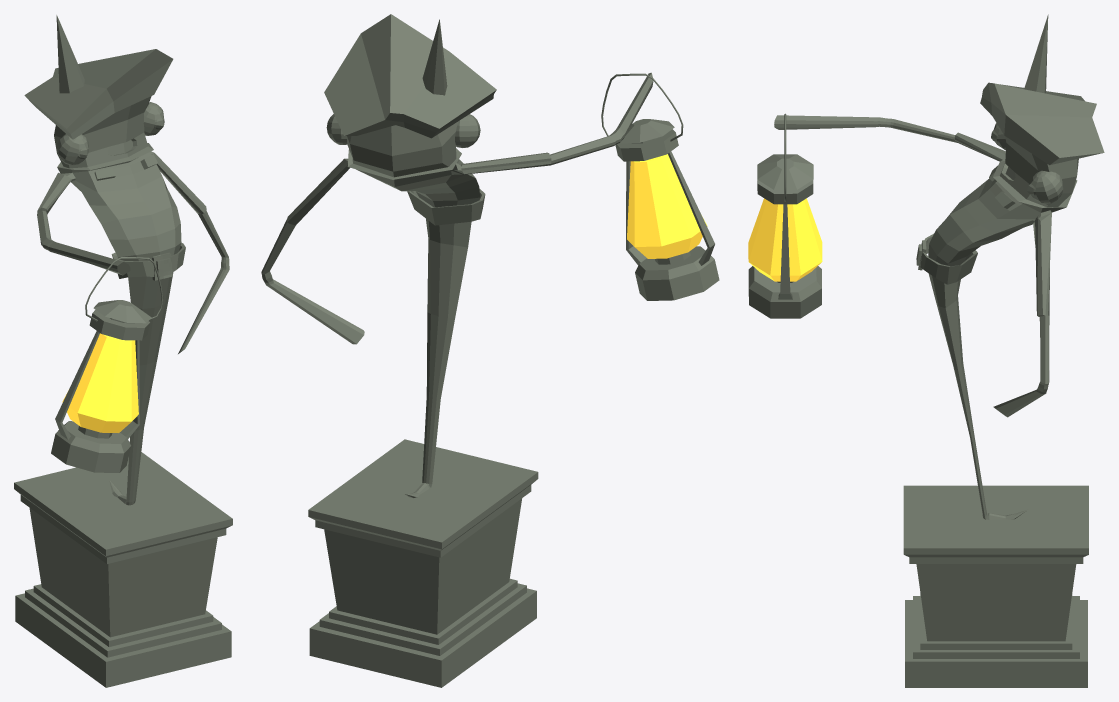
Rendered from Bhau Statue 01.fbx.
The picture shows the model from 3 angles, left to right: view 1: azimuth 30°, elevation 25°; view 2: azimuth 150°, elevation 25°; view 3: azimuth 270°, elevation 25°; orthographic projection. The views are drawn at different scales.
Visible parts, largest first — view 1: Bhau Statue 01; view 2: Bhau Statue 01; view 3: Bhau Statue 01.
Boxes of the visible parts, left/top/right/bottom form: Bhau Statue 01: left=14, top=15, right=232, bottom=687; Bhau Statue 01: left=261, top=14, right=719, bottom=687; Bhau Statue 01: left=748, top=14, right=1104, bottom=687.
Size of the model in its own units: 988 by 1905 by 969.
